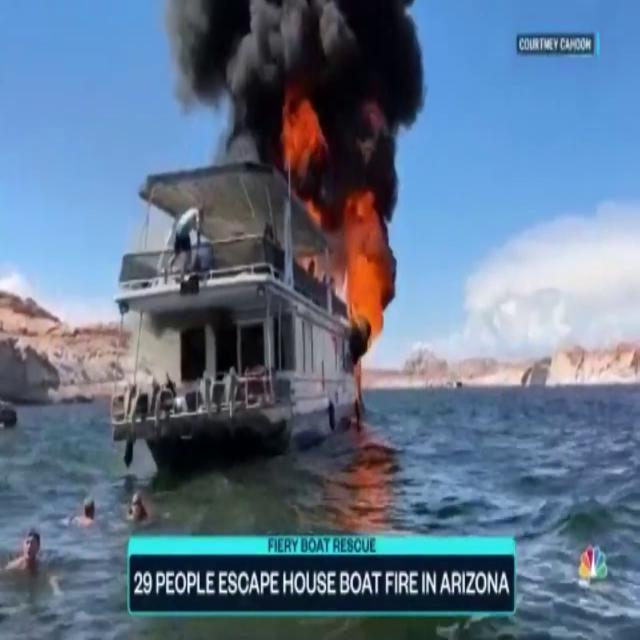Fire: (336, 180, 396, 344), (278, 79, 326, 185)
Smoke: (160, 1, 429, 180)
